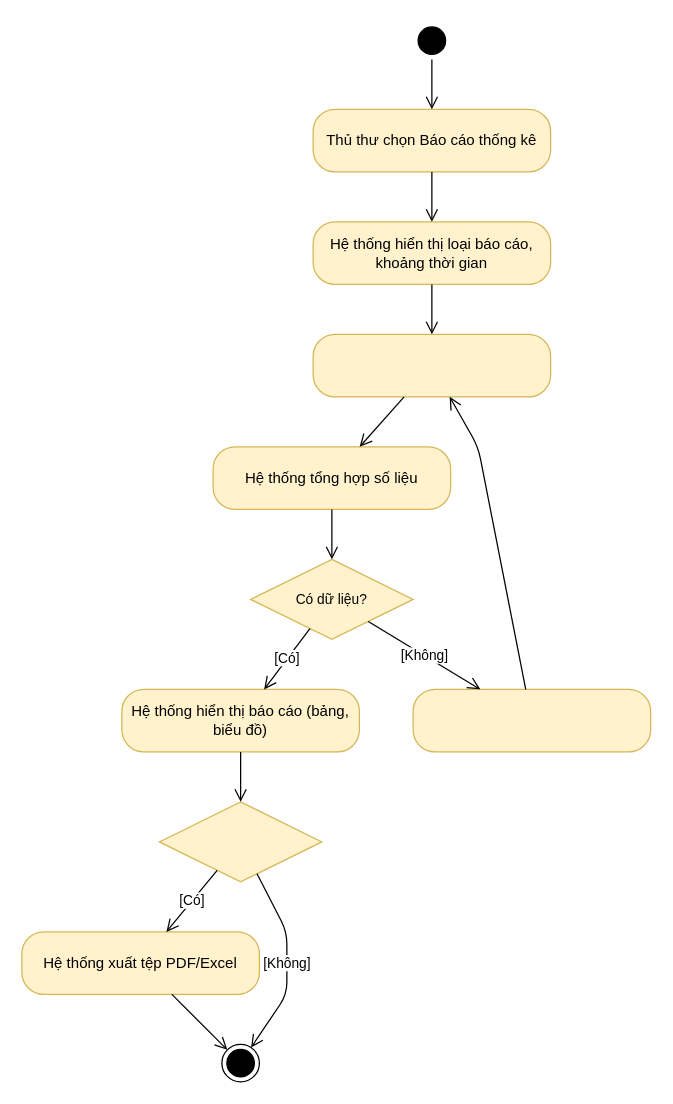
The diagram is 673 pixels wide and 1104 high, and some of its shapes have lost their labels. The shapes that lost their labels are listed below. From the top down, each one's centre as x and y in pixels, then its label:
At pixel 431 365: "Thủ thư chọn loại báo cáo, thời gian, nhấn Tạo".
At pixel 531 720: "Hệ thống thông báo không có dữ liệu".
At pixel 240 841: "Xuất file?".
